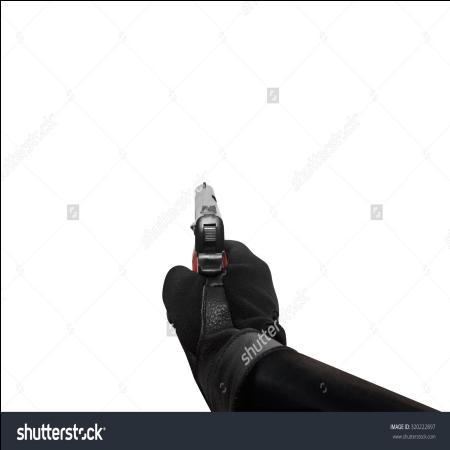Pistol: (188, 178, 229, 280)
